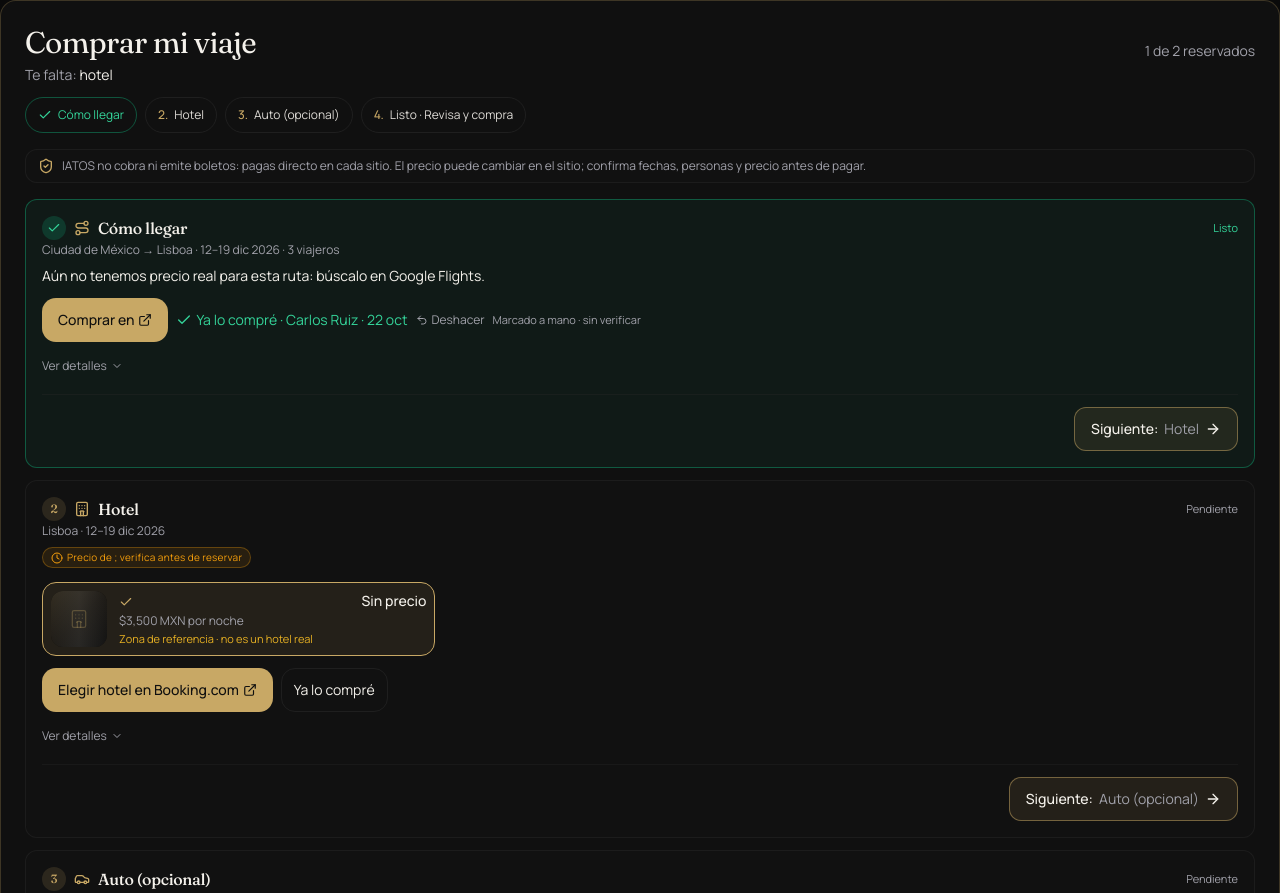
TripPurchasePlan con marcas del grupo (render) › el dueño puede quitar la marca de un colaborador; se borra la marca del grupo
Step 1. Click the button with aria-label "como pendiente" → point(450, 320), box left=416, top=312, right=484, bottom=328
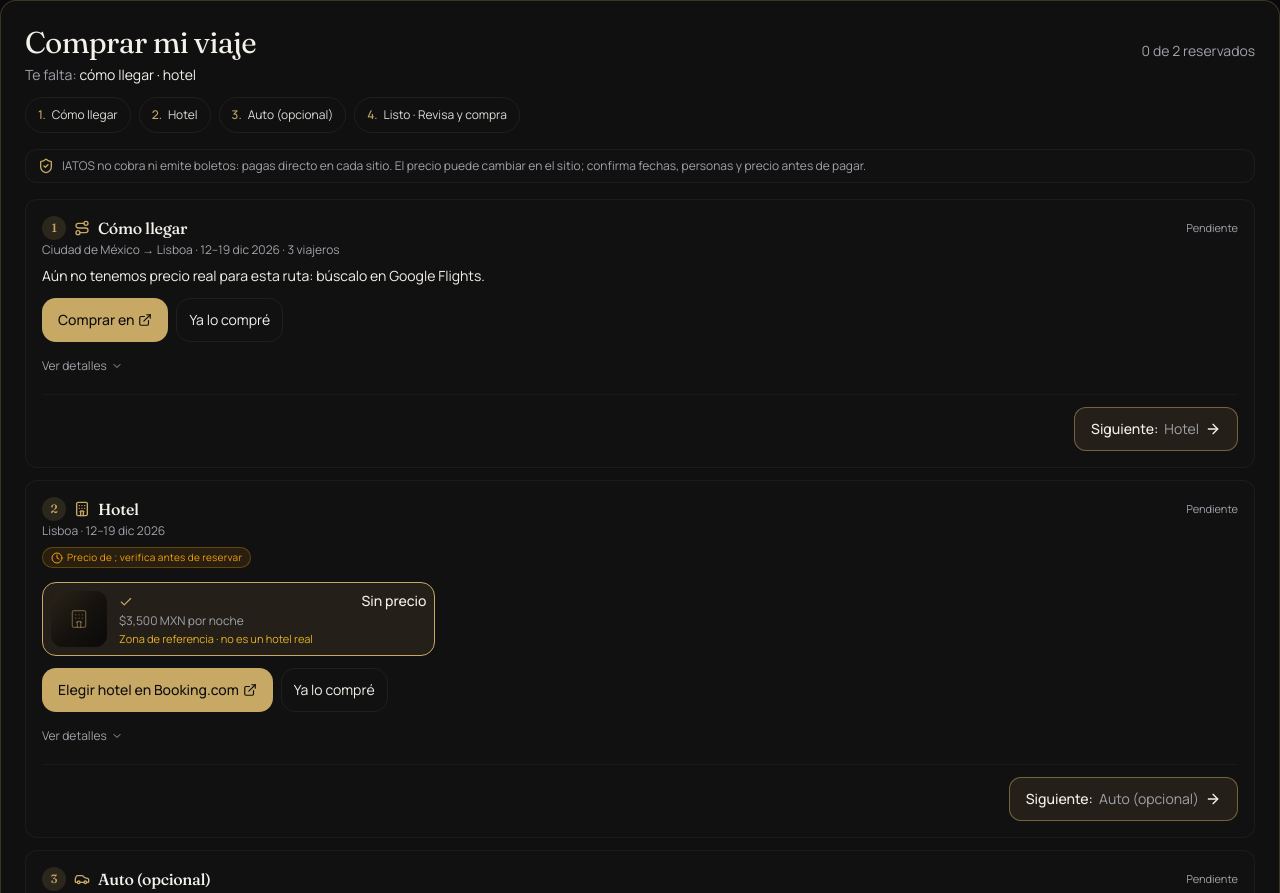
Result: the list item with test id "comprar-vuelo" has attribute data-state="pendiente" at left=25, top=199, right=1255, bottom=468
